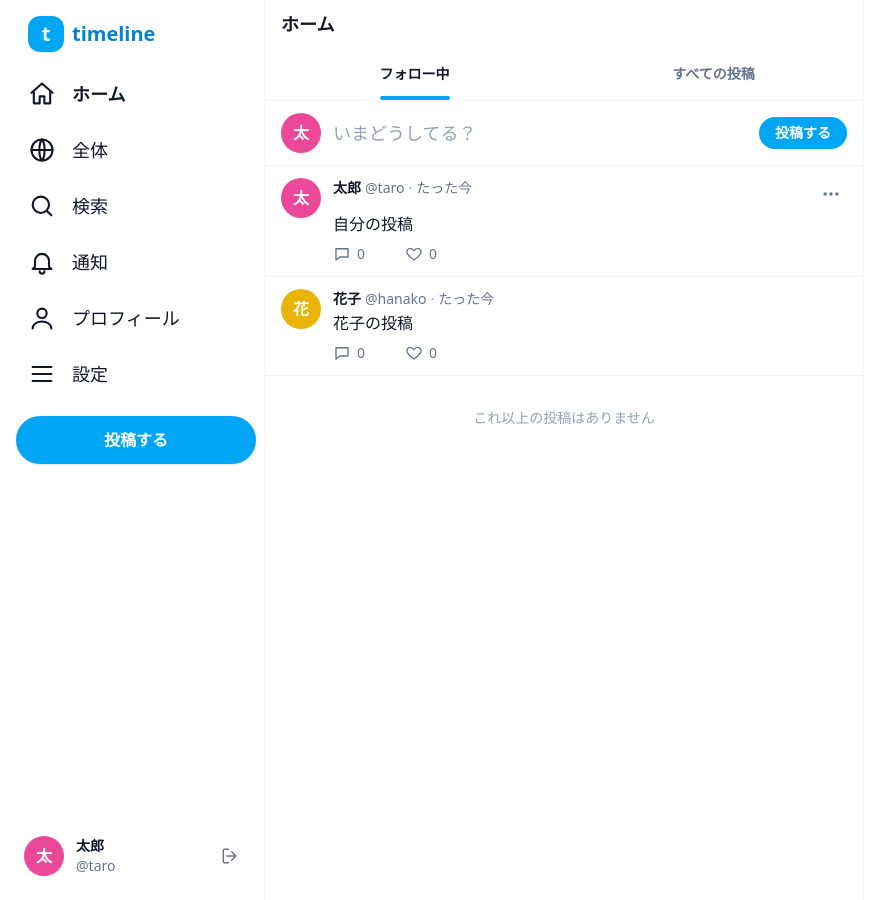
Test: ホームタイムラインと投稿 › 自分の投稿だけ削除でき、削除するとタイムラインから消える
Click the button named "投稿のメニュー" at {"x": 831, "y": 194}, box top-left (815, 178), bottom-right (847, 210)
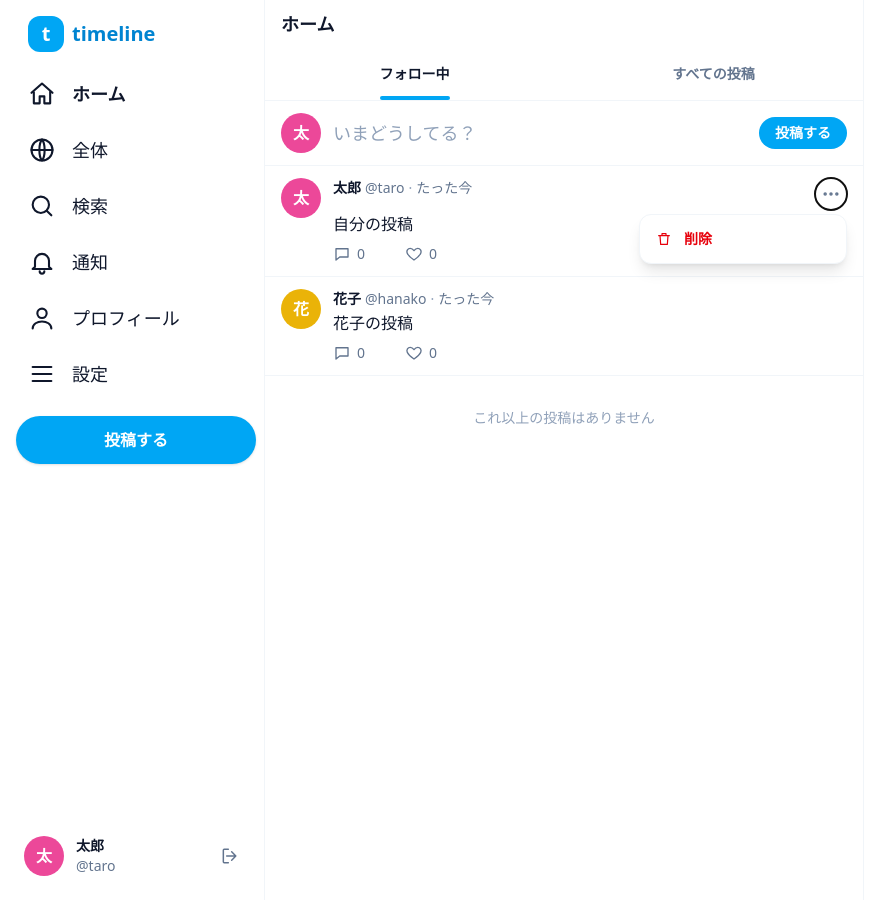
Click the button "削除" at {"x": 743, "y": 239}, box top-left (640, 219), bottom-right (846, 259)
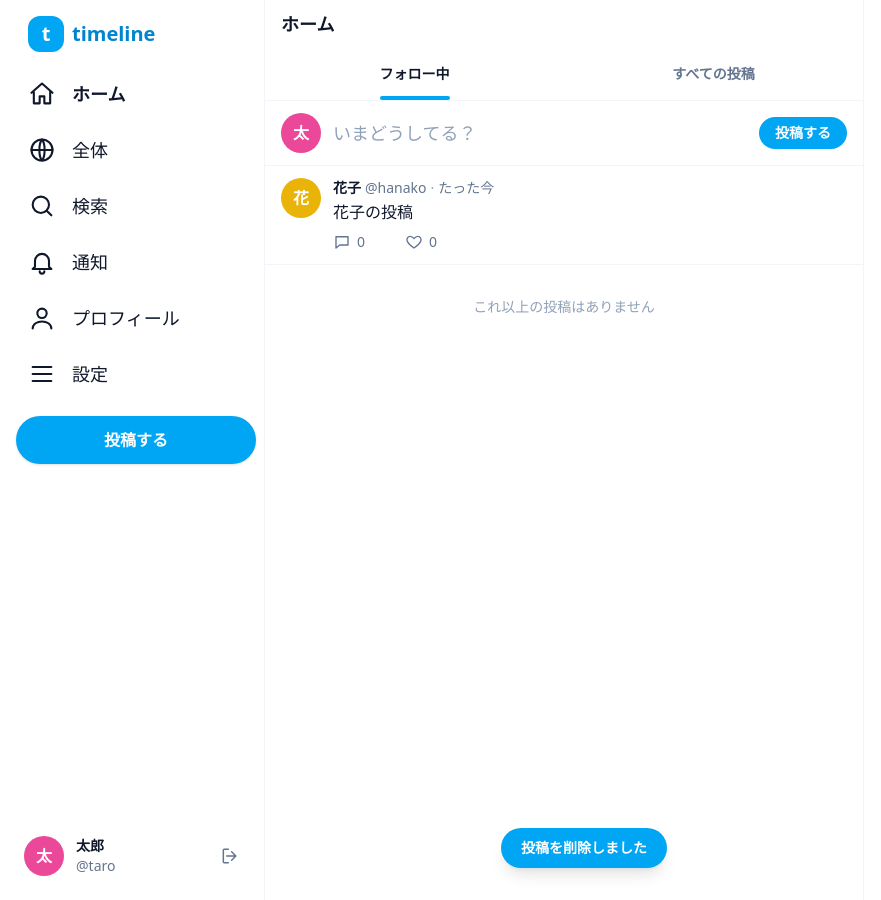
Expected: the text "投稿を削除しました" is shown, top-left (501, 828), bottom-right (667, 868)
Expected: the text "自分の投稿" is gone
